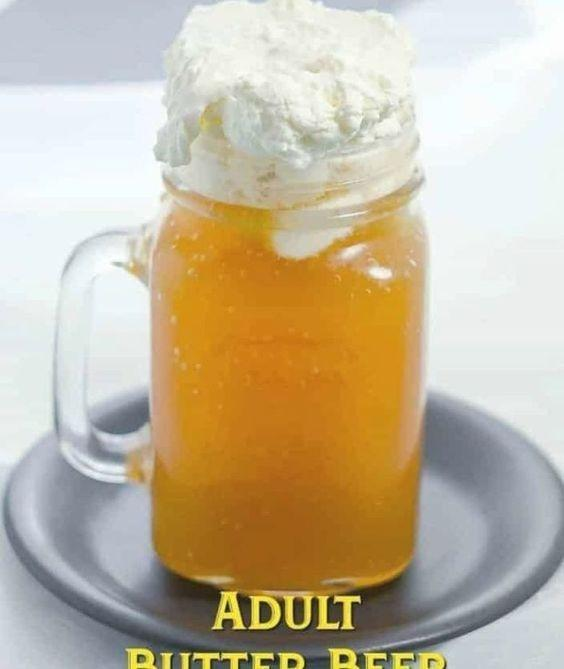glass-mug: (46, 7, 437, 601)
